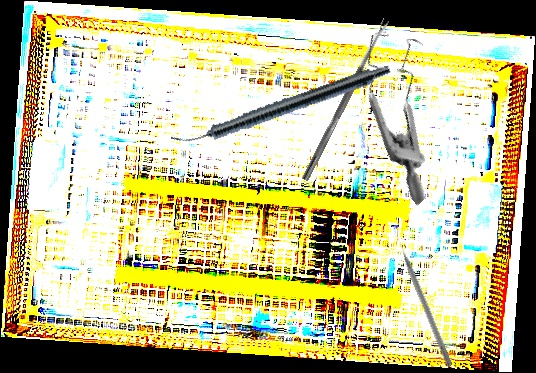Handpiece: (170, 57, 393, 156)
Pusher: (393, 232, 455, 368)
Speculum: (313, 14, 501, 206)
Surgical Spoon: (301, 17, 391, 183)
